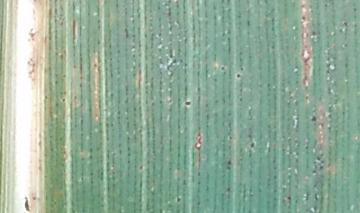tarspot: (23, 196, 30, 212), (248, 141, 255, 150), (309, 116, 317, 122), (184, 101, 191, 106), (220, 66, 225, 71), (226, 160, 231, 165), (175, 198, 181, 202), (236, 74, 240, 78)
